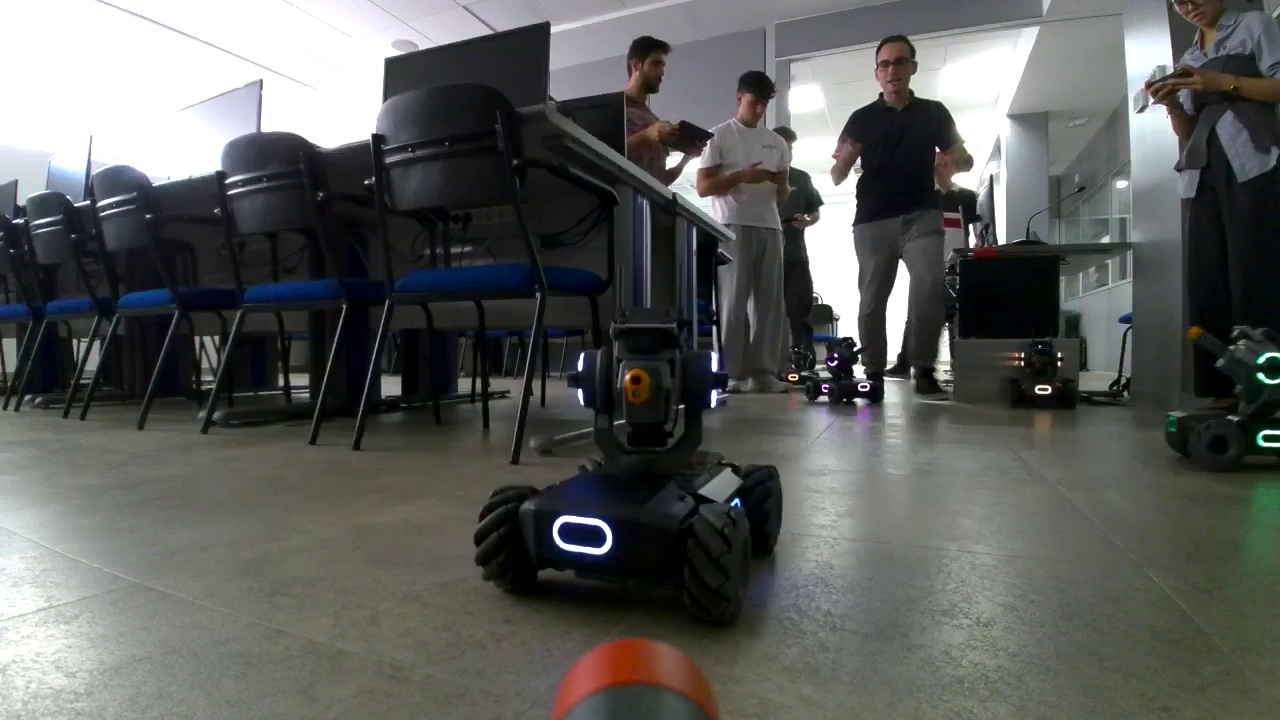robot: (474, 267, 783, 625), (1165, 317, 1280, 471), (1003, 330, 1078, 408), (803, 336, 882, 405), (778, 339, 820, 385)
